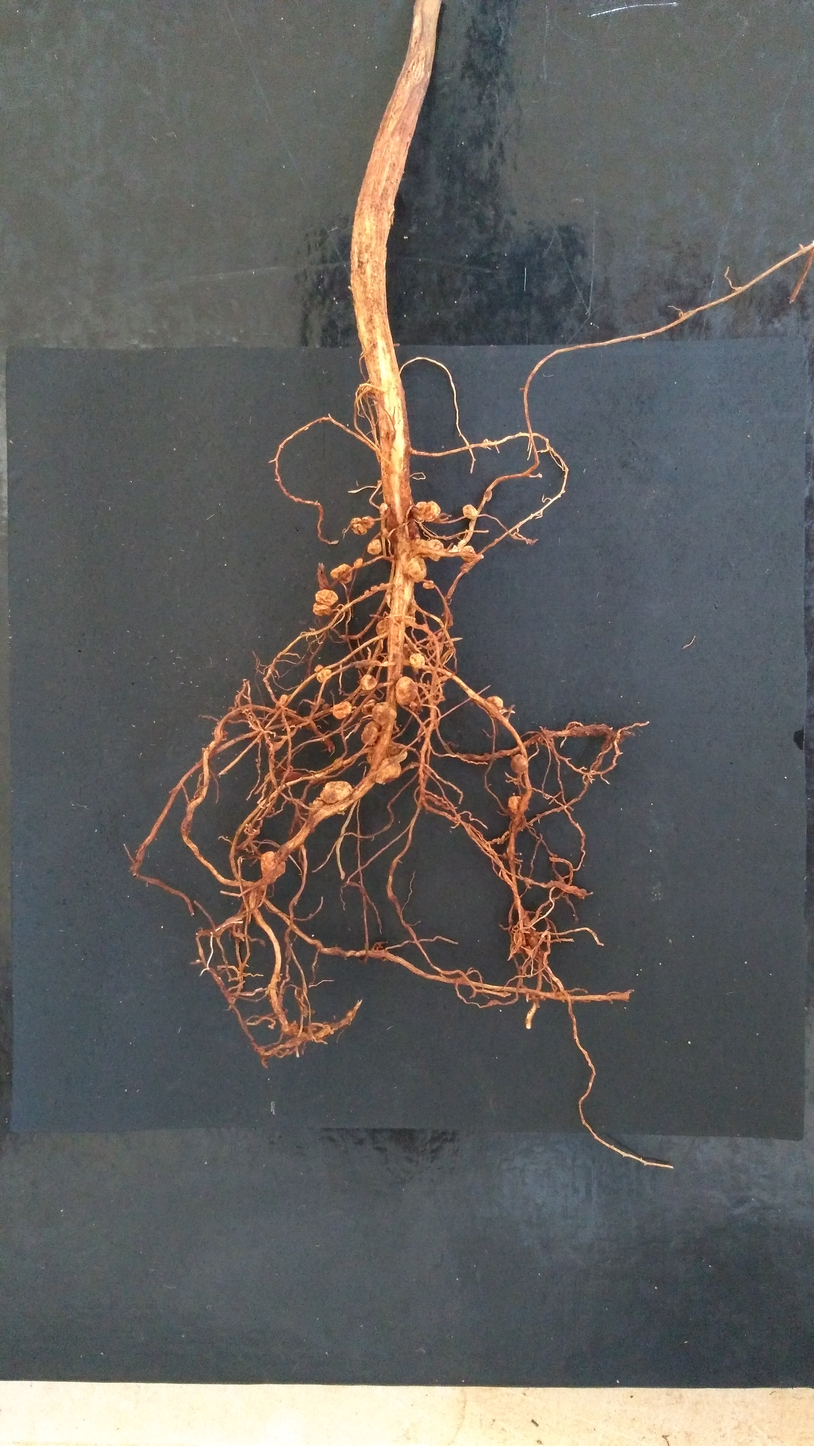nodule: (320, 781, 353, 815), (366, 742, 408, 764), (376, 614, 416, 637), (385, 589, 417, 616), (261, 851, 286, 884), (375, 758, 402, 785), (312, 589, 338, 615), (415, 539, 444, 562), (395, 676, 417, 706), (372, 701, 397, 726), (404, 556, 427, 583), (411, 501, 440, 522), (361, 721, 382, 746), (351, 515, 374, 536), (330, 563, 352, 584), (307, 796, 328, 817), (486, 696, 503, 718), (333, 701, 352, 720), (511, 754, 529, 774), (314, 665, 332, 683), (508, 795, 524, 815), (360, 674, 378, 691), (361, 699, 379, 716), (460, 545, 477, 562), (409, 652, 425, 669), (402, 642, 415, 662), (462, 504, 478, 520), (367, 539, 382, 555), (512, 930, 526, 946), (281, 771, 302, 781), (275, 695, 289, 710), (524, 945, 537, 958), (422, 580, 435, 590), (379, 502, 387, 515), (354, 558, 363, 569), (485, 490, 492, 502), (515, 945, 523, 954), (322, 703, 330, 711), (370, 585, 377, 592), (380, 583, 387, 589), (364, 590, 370, 596), (483, 439, 488, 443), (255, 758, 259, 762)
